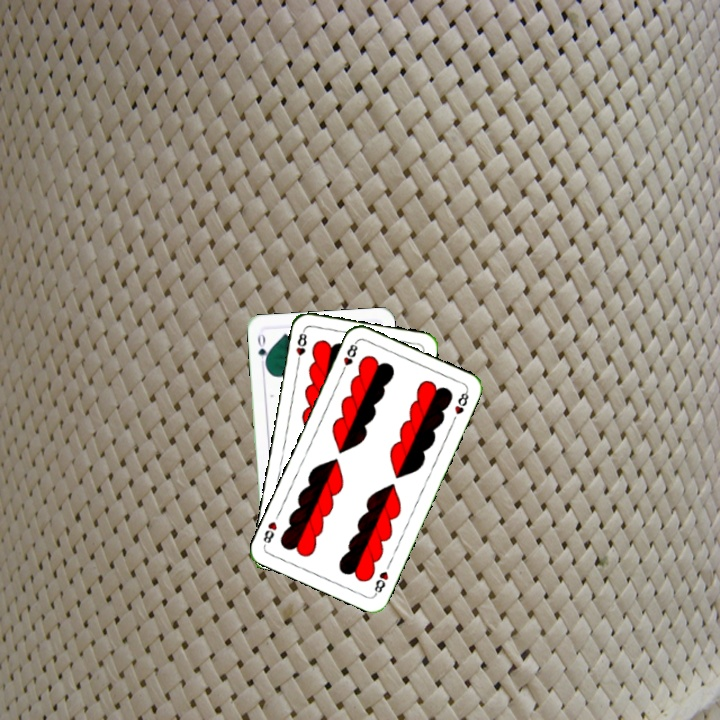GO: (254, 329, 271, 370)
H8: (337, 338, 360, 376), (292, 326, 309, 367), (370, 567, 391, 598)
